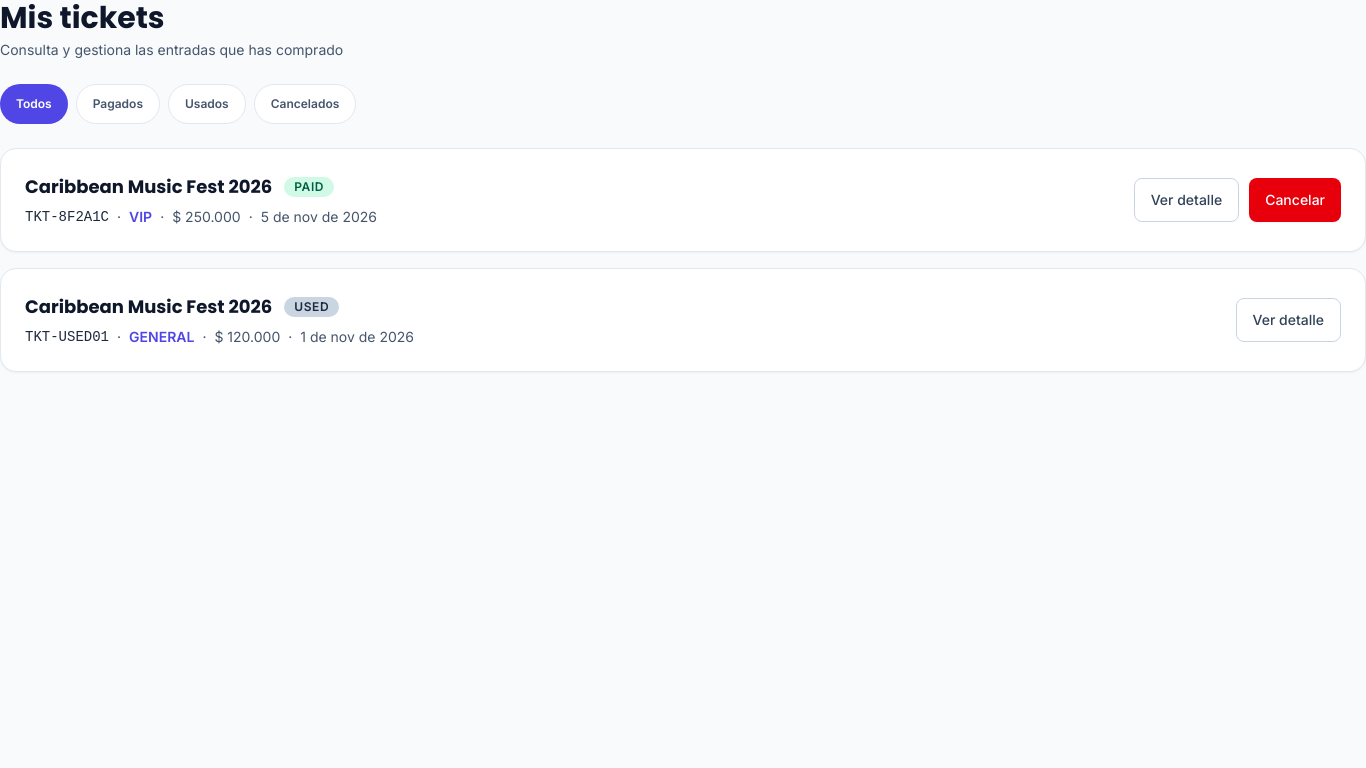
Scenario: Tickets y Compra › TEST-FE-TKT-007: cancelar ticket en estado PAID actualiza su estado a CANCELLED
Click the button "Cancelar": click(1295, 200) [1249,178,1341,222]
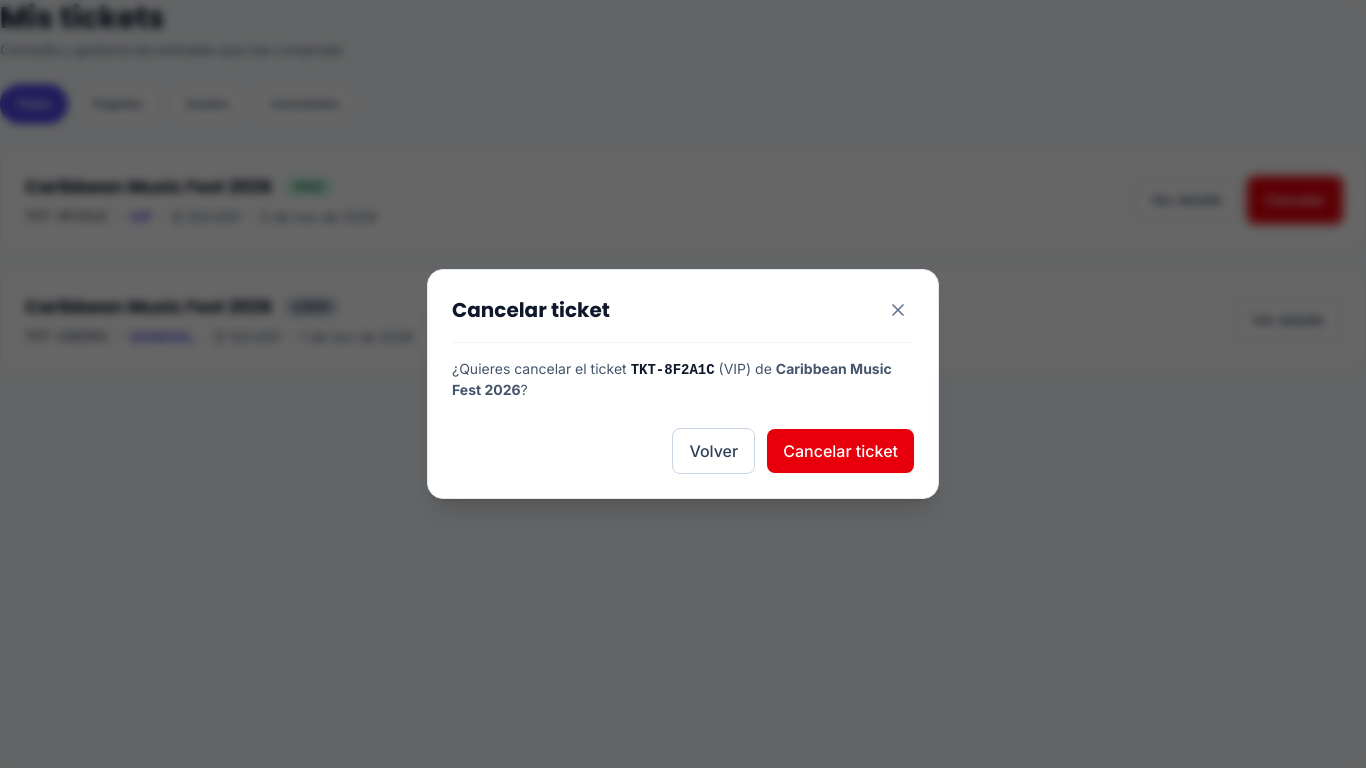
Click the button "Cancelar ticket": click(841, 451) [767,429,914,473]
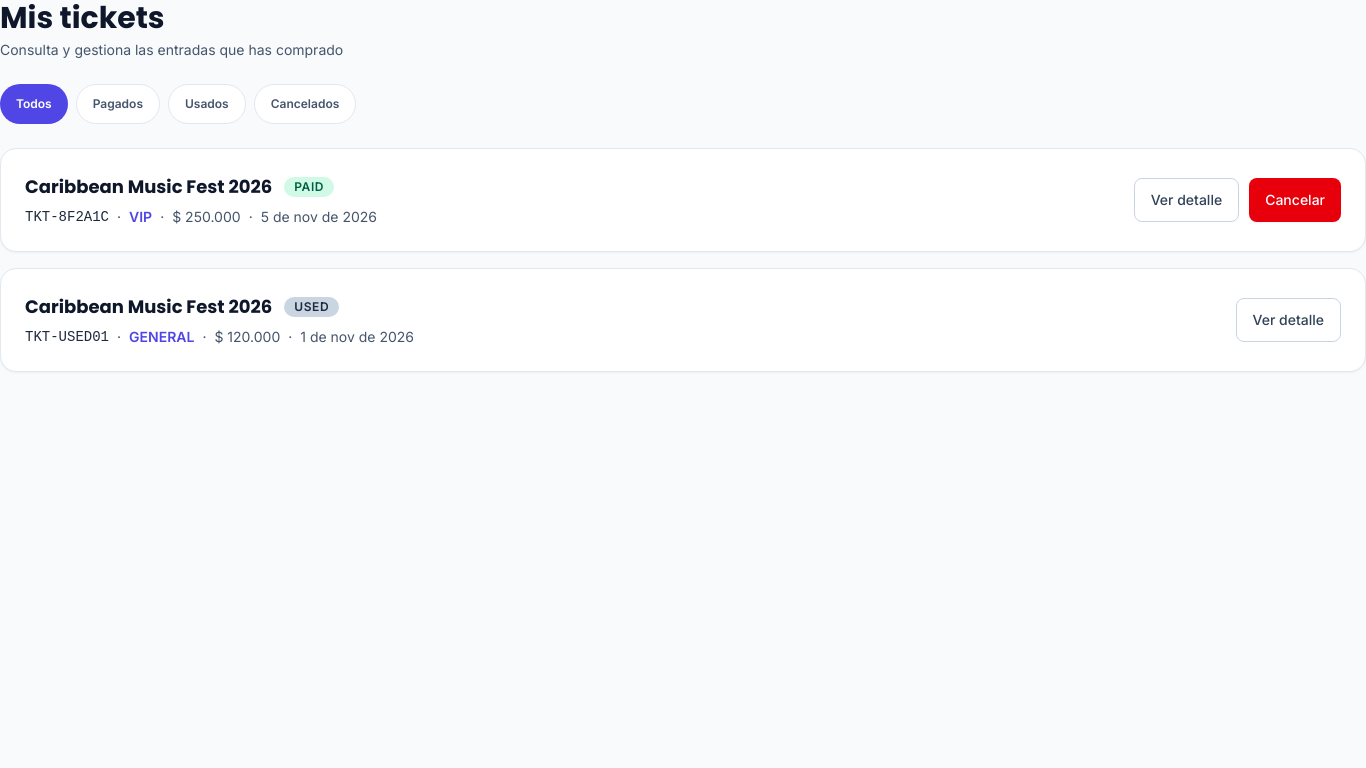
Now the heading "Cancelar ticket" is gone
